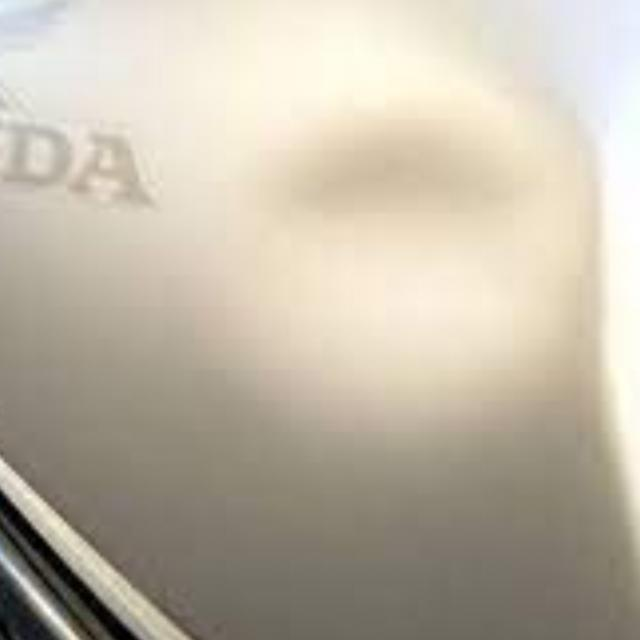dents: (210, 115, 596, 350)
